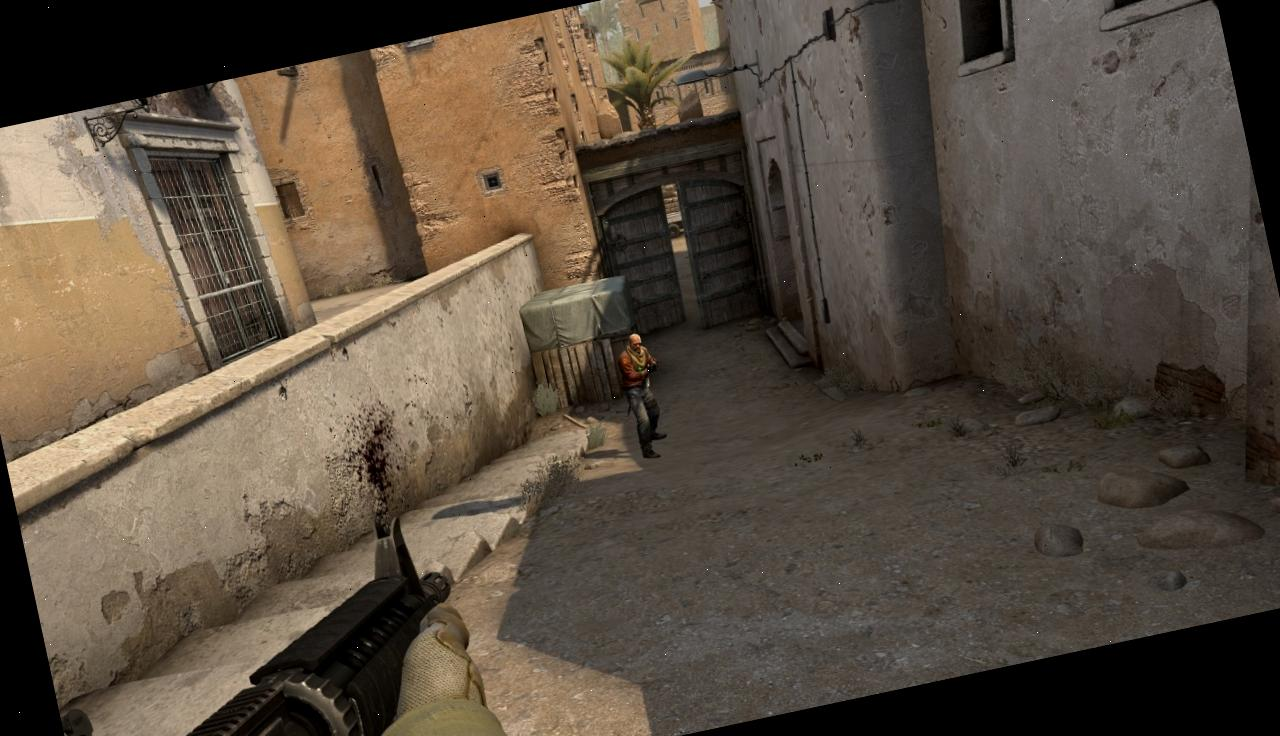rifle: (32, 502, 496, 736)
tt: (610, 330, 676, 463)
tthead: (626, 332, 643, 354)
